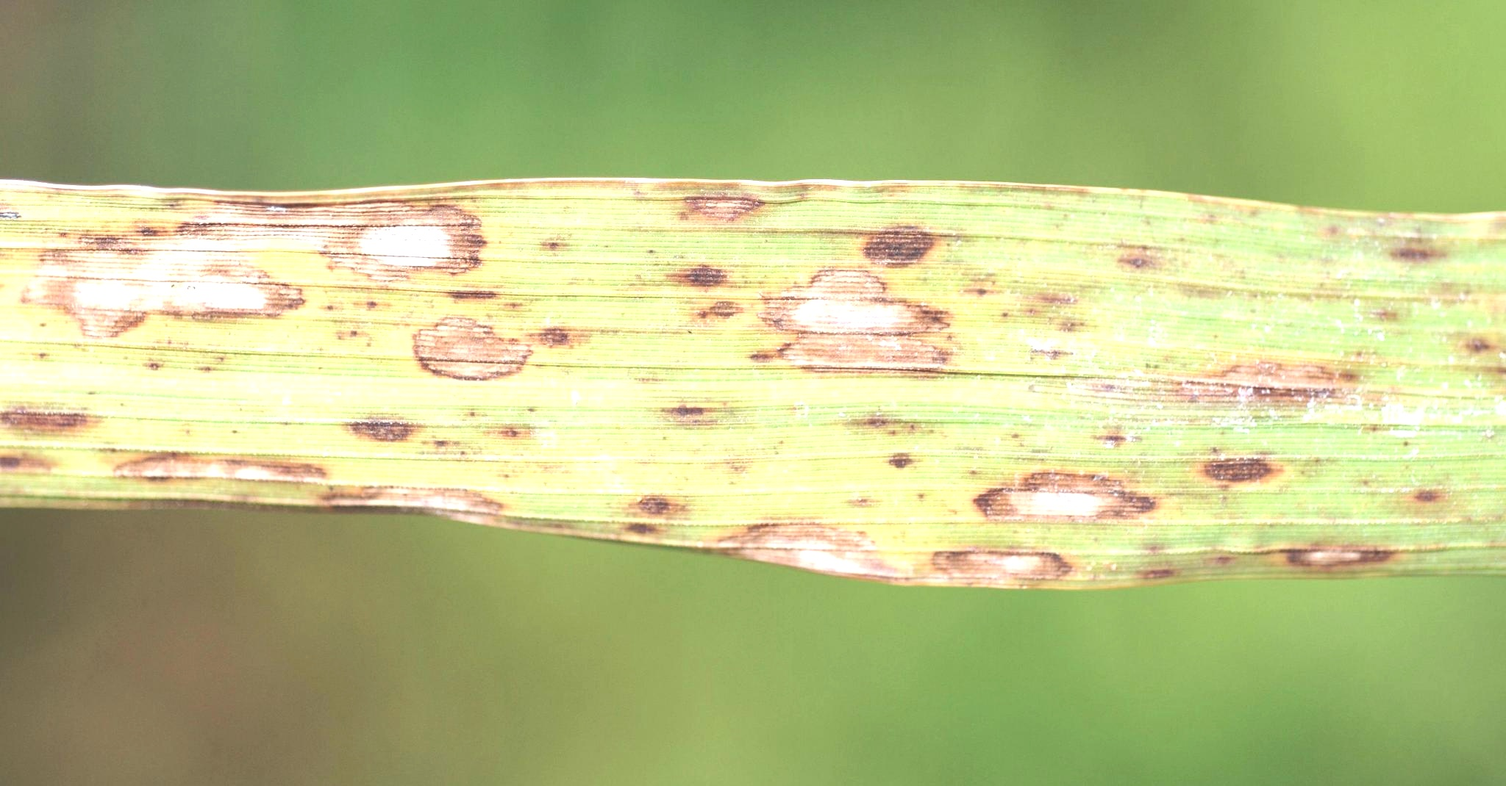Bacterial_Leaf_Blight: (702, 262, 964, 399), (29, 237, 339, 341), (312, 170, 509, 280), (943, 439, 1177, 530), (1064, 342, 1386, 408), (76, 412, 337, 492), (699, 502, 929, 588), (362, 307, 603, 389), (1124, 527, 1405, 590), (0, 377, 113, 529), (330, 466, 524, 532), (1182, 413, 1324, 494), (319, 377, 463, 445), (838, 203, 960, 278), (661, 184, 789, 228), (609, 480, 679, 552), (1375, 231, 1464, 284)
